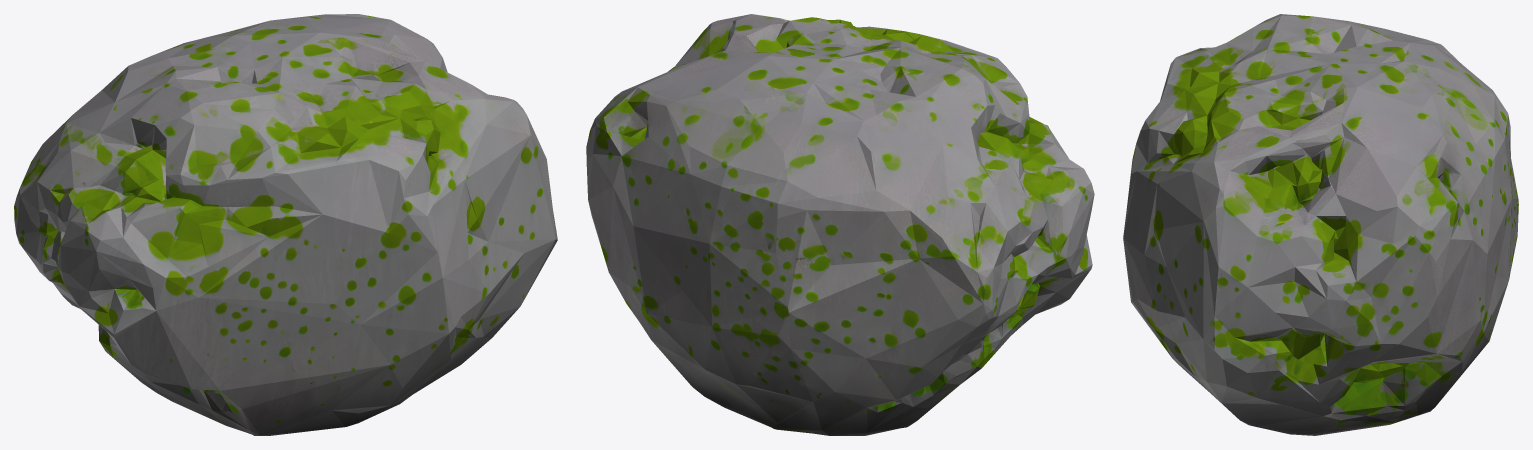
Rendered from rock.glb.
3 views of the same model, side by side, from view 1: azimuth 30°, elevation 25°; view 2: azimuth 150°, elevation 25°; view 3: azimuth 270°, elevation 25° (orthographic). The views are drawn at different scales.
Visible parts, largest first — view 1: textured_mesh.obj; view 2: textured_mesh.obj; view 3: textured_mesh.obj.
Part boxes in pixels (bbox=[...]): textured_mesh.obj: bbox=[14, 14, 557, 435]; textured_mesh.obj: bbox=[586, 14, 1094, 435]; textured_mesh.obj: bbox=[1123, 14, 1518, 435].
Size of the model in its own units: 1.98 by 1.41 by 1.57.
Materials: 1 (1 with a texture image).
